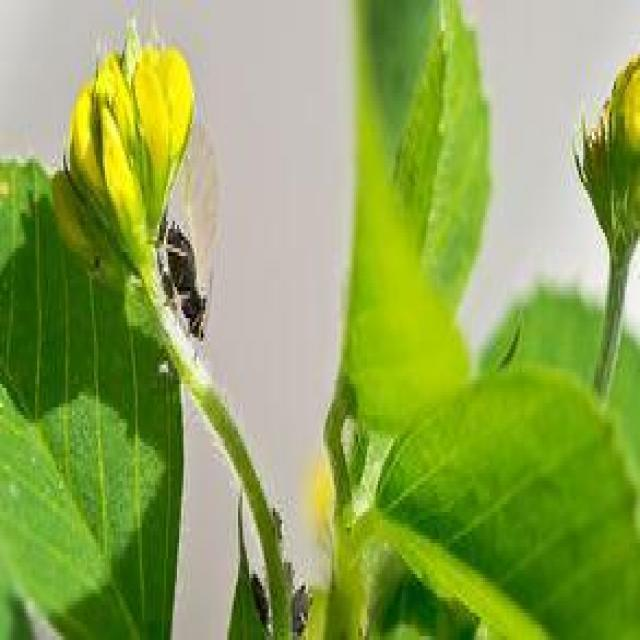aphid: (160, 192, 220, 346)
